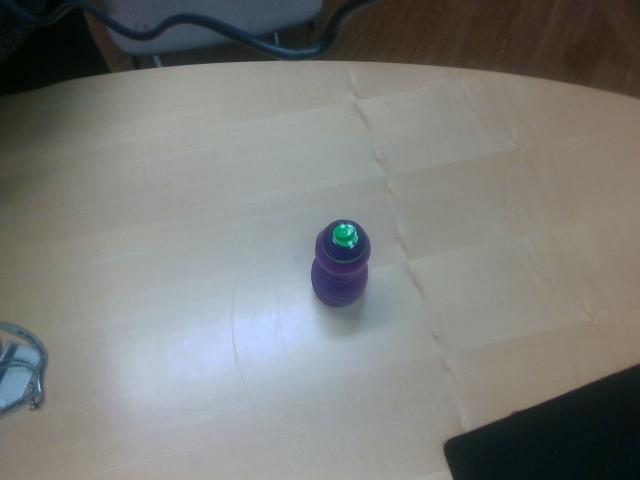bottle: (311, 221, 369, 308)
